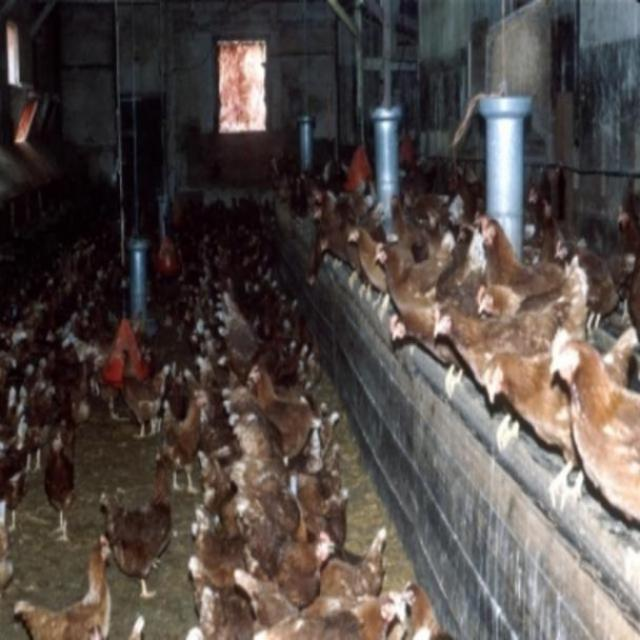Chicken: (544, 328, 638, 534)
